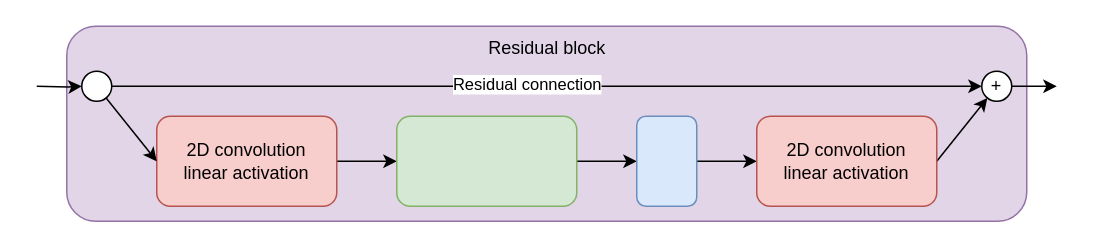
The diagram is 1095 pixels wide and 248 high, and some of its shapes have lost their labels. Here are the shapes that lost their labels. From the top down, the centre of each, then its label:
At [486,160]: "Batch normalization".
At [666,160]: "ReLU".
